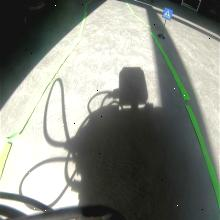crosswalk: (162, 7, 173, 21)
